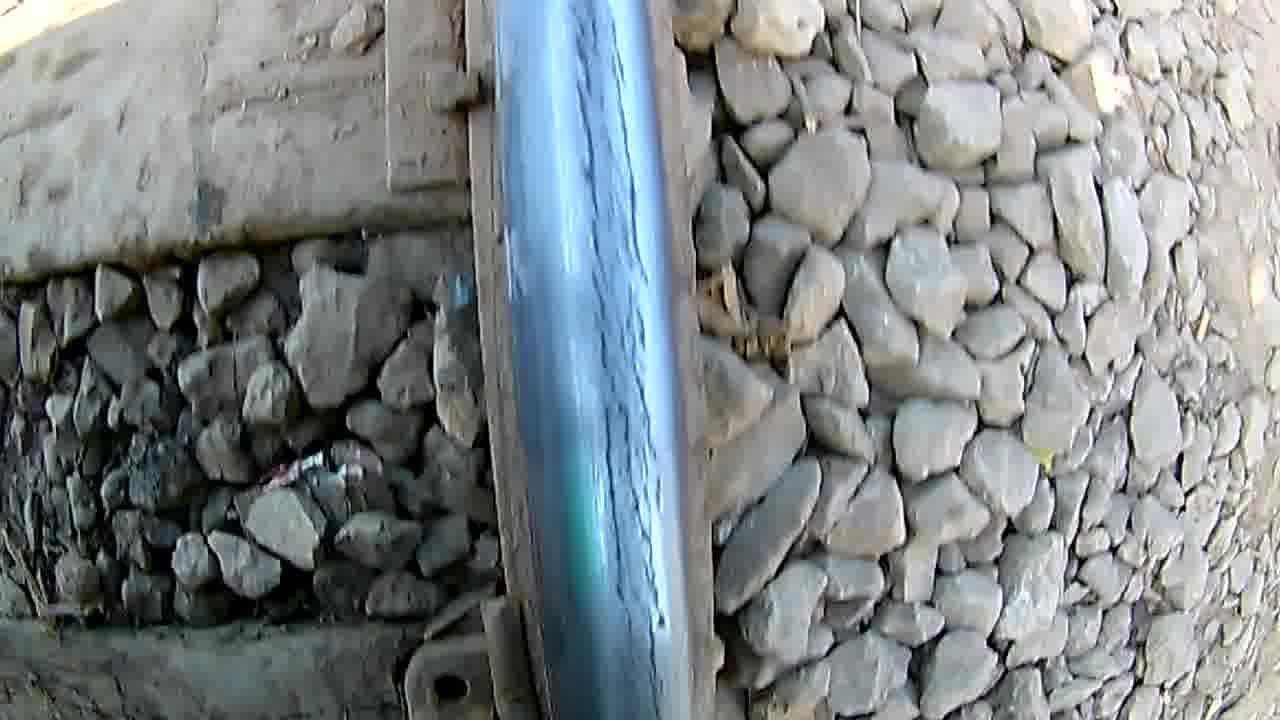normal_track: (560, 5, 674, 720)
